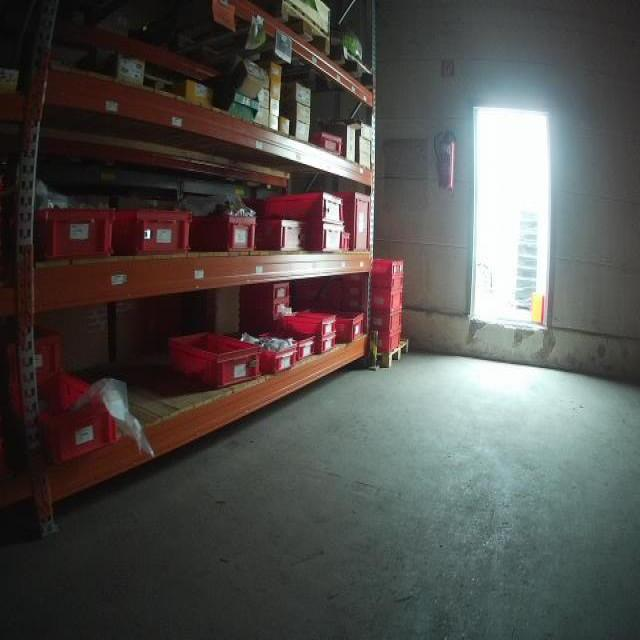pallet: (145, 3, 333, 86), (255, 43, 378, 98), (368, 331, 414, 369)
small_load_carrier: (33, 392, 124, 461), (171, 329, 263, 387), (34, 201, 114, 259), (118, 205, 194, 258), (6, 325, 66, 383), (257, 190, 343, 226), (190, 211, 256, 256), (341, 185, 374, 256), (256, 217, 308, 256), (261, 330, 316, 362), (263, 336, 299, 377), (278, 312, 340, 333), (305, 223, 341, 257), (308, 130, 344, 160), (334, 314, 367, 346), (373, 329, 408, 355), (369, 308, 409, 329), (369, 289, 408, 309), (369, 258, 404, 275), (369, 275, 408, 289), (315, 334, 339, 356)
